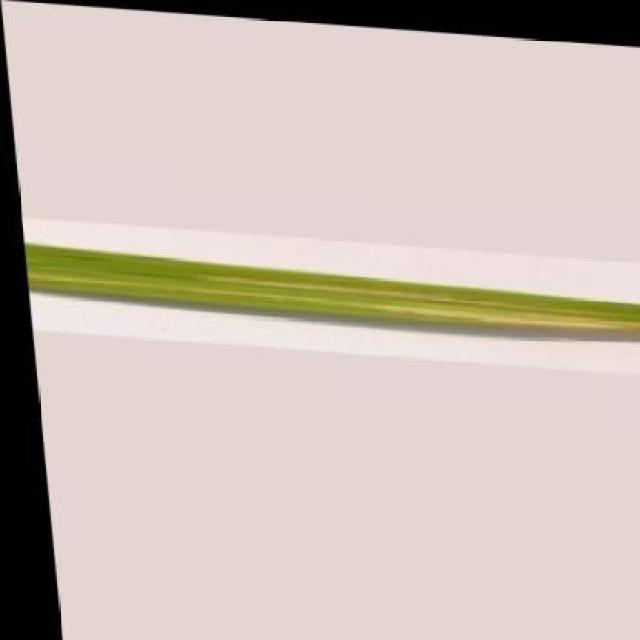Brown_Spot: (17, 238, 640, 342)
